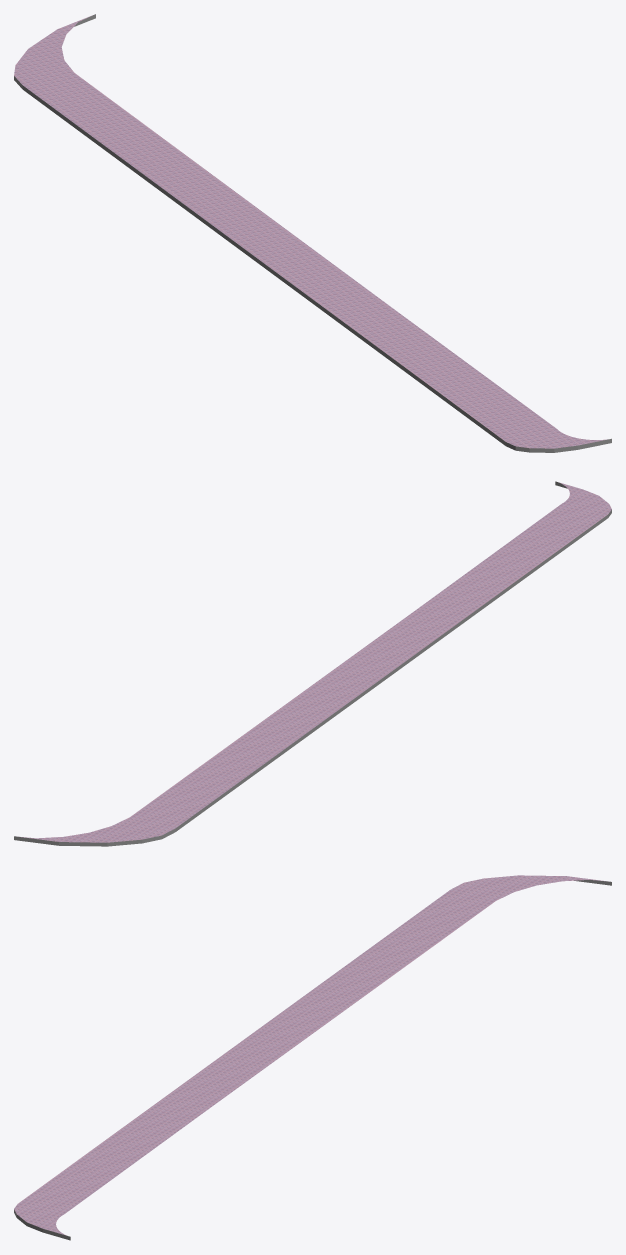
Rendered from newRoad.obj.
3 renders of one model, top to bottom at view 1: azimuth 30°, elevation 25°; view 2: azimuth 150°, elevation 25°; view 3: azimuth 330°, elevation 25°, orthographic. The views are drawn at different scales.
Visible parts, largest first — view 1: Mesh1 Group1 Model; view 2: Mesh1 Group1 Model; view 3: Mesh1 Group1 Model.
Boxes of the visible parts, x1,y1,x2,y2 form: Mesh1 Group1 Model: (14, 14, 611, 452); Mesh1 Group1 Model: (14, 481, 611, 846); Mesh1 Group1 Model: (14, 875, 611, 1240).
Bounding box in the file's own units: 6.33 × 0.2 × 47.23.
2 materials, 1 textured.
